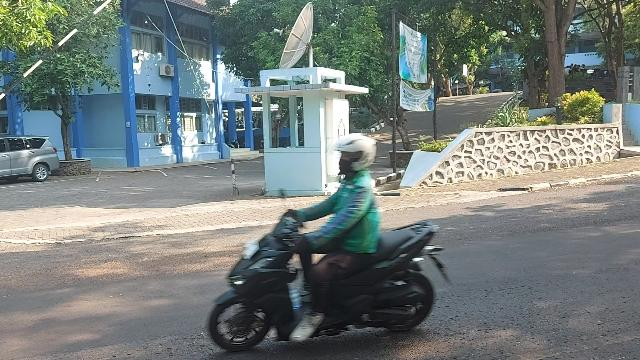motor: (209, 188, 453, 354), (332, 135, 378, 174)
